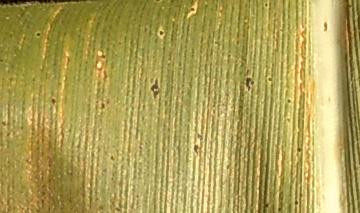tarspot: (148, 77, 161, 99), (244, 76, 256, 92), (192, 143, 201, 156), (322, 20, 328, 32), (189, 6, 197, 14), (49, 97, 56, 106), (158, 29, 165, 37), (286, 97, 293, 105), (99, 101, 105, 110), (108, 154, 115, 161), (296, 145, 302, 153), (266, 76, 273, 82), (100, 53, 107, 59), (35, 31, 41, 37), (293, 200, 299, 206), (263, 2, 268, 9), (264, 202, 269, 209), (153, 1, 161, 3), (1, 58, 4, 63)
